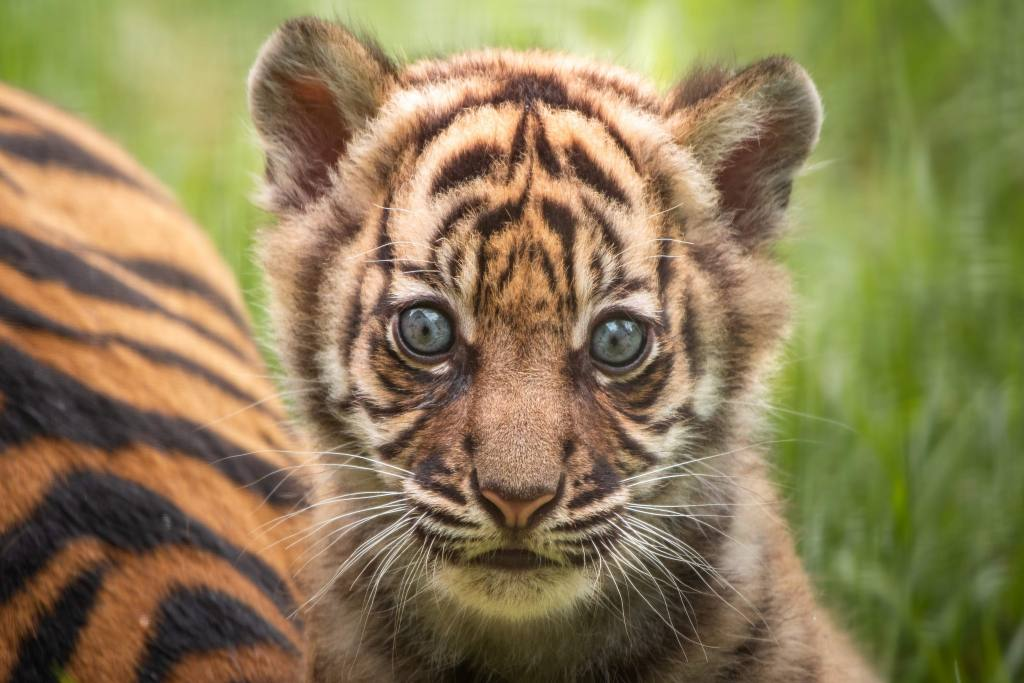Tigrew: (216, 15, 860, 649)
